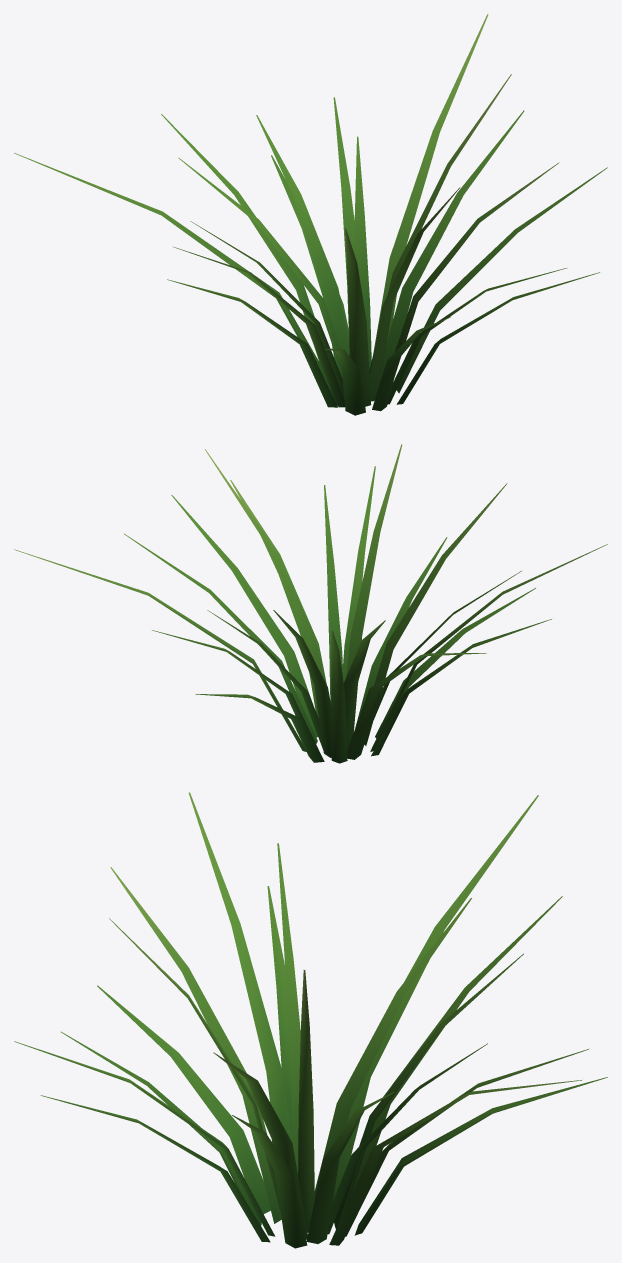
The model's file is grass_tuft.glb.
3 renders of one model, top to bottom at view 1: azimuth 30°, elevation 25°; view 2: azimuth 150°, elevation 25°; view 3: azimuth 270°, elevation 25°, orthographic. The views are drawn at different scales.
Parts seen in each view (by area): view 1: grass_tuft; view 2: grass_tuft; view 3: grass_tuft.
Boxes of the visible parts, bbox=[...] form: grass_tuft: bbox=[14, 14, 607, 415]; grass_tuft: bbox=[14, 444, 607, 763]; grass_tuft: bbox=[14, 792, 607, 1248].
Size of the model in its own units: 0.8855 by 0.4921 by 0.7628.
